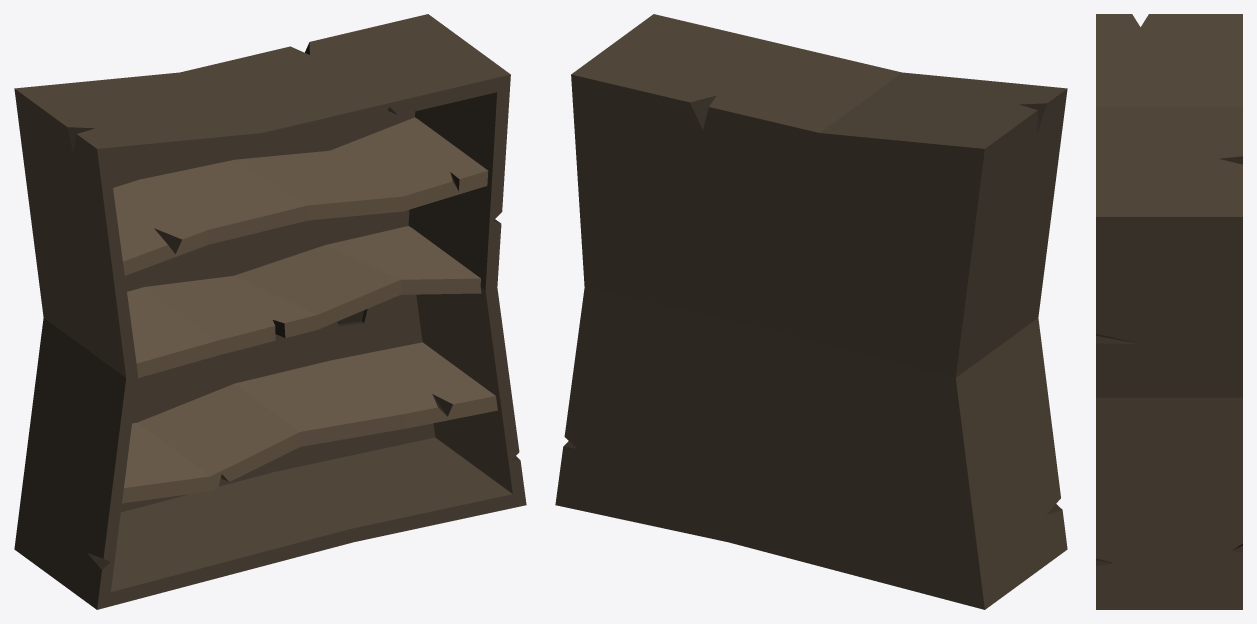
The model's file is Shelf_2_Brown.fbx.
3 renders of one model, left to right at view 1: azimuth 30°, elevation 25°; view 2: azimuth 150°, elevation 25°; view 3: azimuth 270°, elevation 25°, orthographic. The views are drawn at different scales.
Visible parts, largest first — view 1: Shelf_2_Brown_Part_1, Shelf_2_Brown_Part_2, Shelf_2_Brown_Part_3; view 2: Shelf_2_Brown_Part_1, Shelf_2_Brown_Part_3; view 3: Shelf_2_Brown_Part_1, Shelf_2_Brown_Part_3.
Boxes of the visible parts, x1=… form: Shelf_2_Brown_Part_1: x1=14, y1=14, x2=526, y2=609; Shelf_2_Brown_Part_2: x1=113, y1=117, x2=497, y2=503; Shelf_2_Brown_Part_3: x1=67, y1=42, x2=520, y2=569; Shelf_2_Brown_Part_1: x1=555, y1=14, x2=1067, y2=609; Shelf_2_Brown_Part_3: x1=563, y1=95, x2=1062, y2=514; Shelf_2_Brown_Part_1: x1=1096, y1=14, x2=1242, y2=609; Shelf_2_Brown_Part_3: x1=1096, y1=156, x2=1242, y2=566.
Size of the model in its own units: 150 by 154 by 50.
